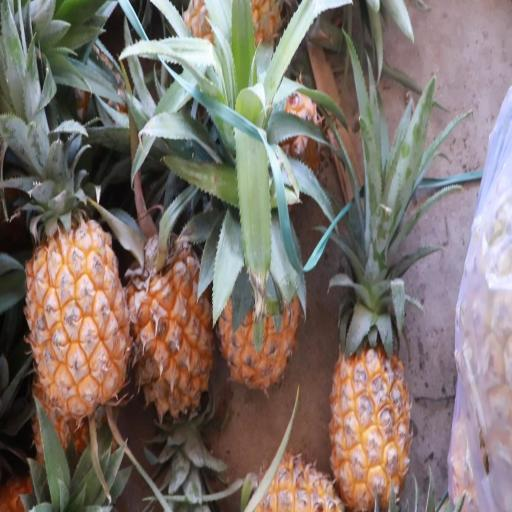Pineapple - v8 v1: (20, 187, 135, 420), (126, 223, 220, 423), (327, 309, 414, 512), (215, 196, 302, 398)
